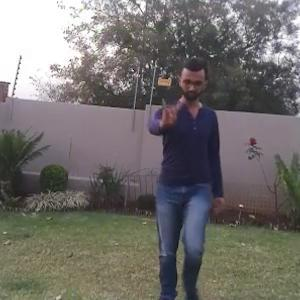takeoff-hand: (152, 93, 186, 129)
